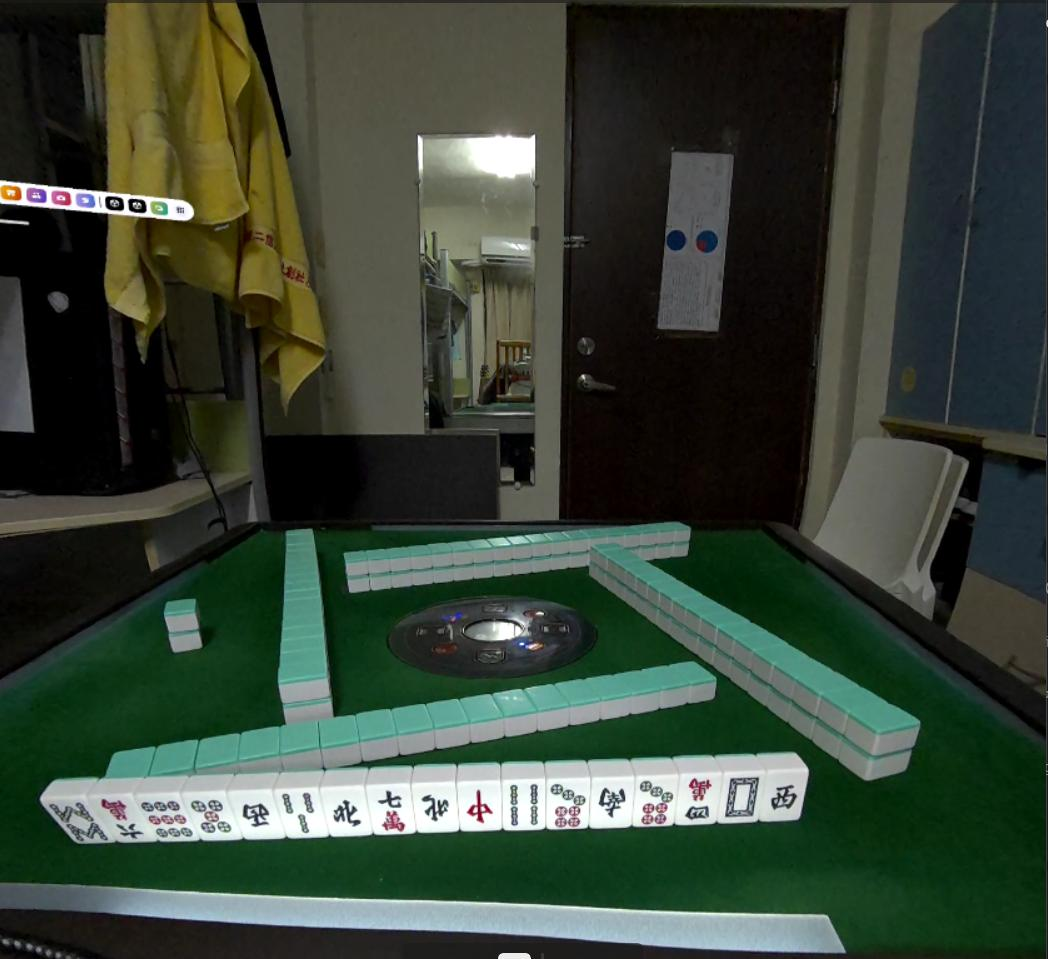mahjong: (45, 790, 109, 845), (133, 789, 194, 844), (268, 784, 323, 843), (95, 780, 142, 844), (317, 779, 367, 839), (365, 784, 414, 843), (543, 777, 591, 835), (230, 787, 277, 843), (410, 784, 455, 841), (763, 772, 810, 825), (185, 787, 233, 837), (592, 777, 633, 831), (457, 777, 499, 829), (677, 770, 718, 823), (723, 770, 761, 824), (637, 777, 674, 831), (505, 777, 541, 829)
